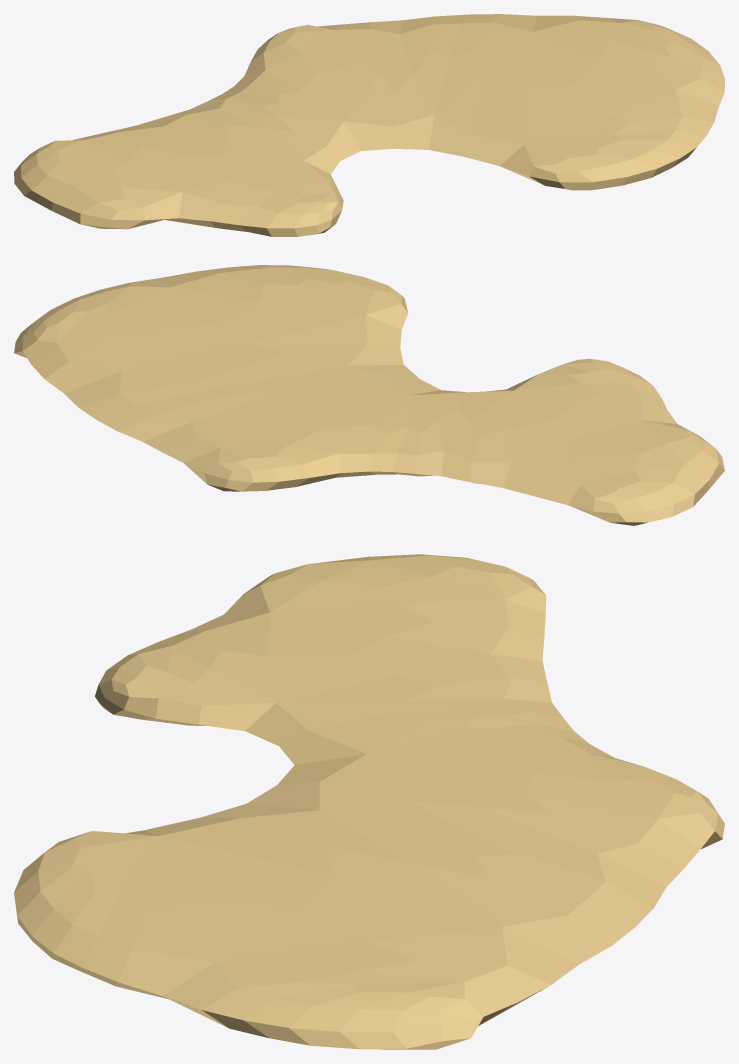
The model's file is Buddah Puddle.fbx.
3 renders of one model, top to bottom at view 1: azimuth 30°, elevation 25°; view 2: azimuth 150°, elevation 25°; view 3: azimuth 270°, elevation 25°, orthographic. The views are drawn at different scales.
Parts seen in each view (by area): view 1: Puddle.001; view 2: Puddle.001; view 3: Puddle.001.
Boxes of the visible parts, bbox=[...] form: Puddle.001: bbox=[14, 14, 724, 236]; Puddle.001: bbox=[14, 265, 724, 525]; Puddle.001: bbox=[14, 554, 724, 1049].
Size of the model in its own units: 738 by 25.77 by 457.
